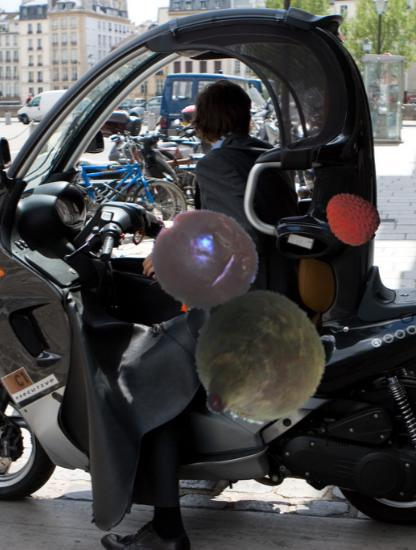Beetroot: (185, 289, 327, 431)
Lychee: (322, 189, 381, 248)
Passion: (149, 207, 260, 318)
